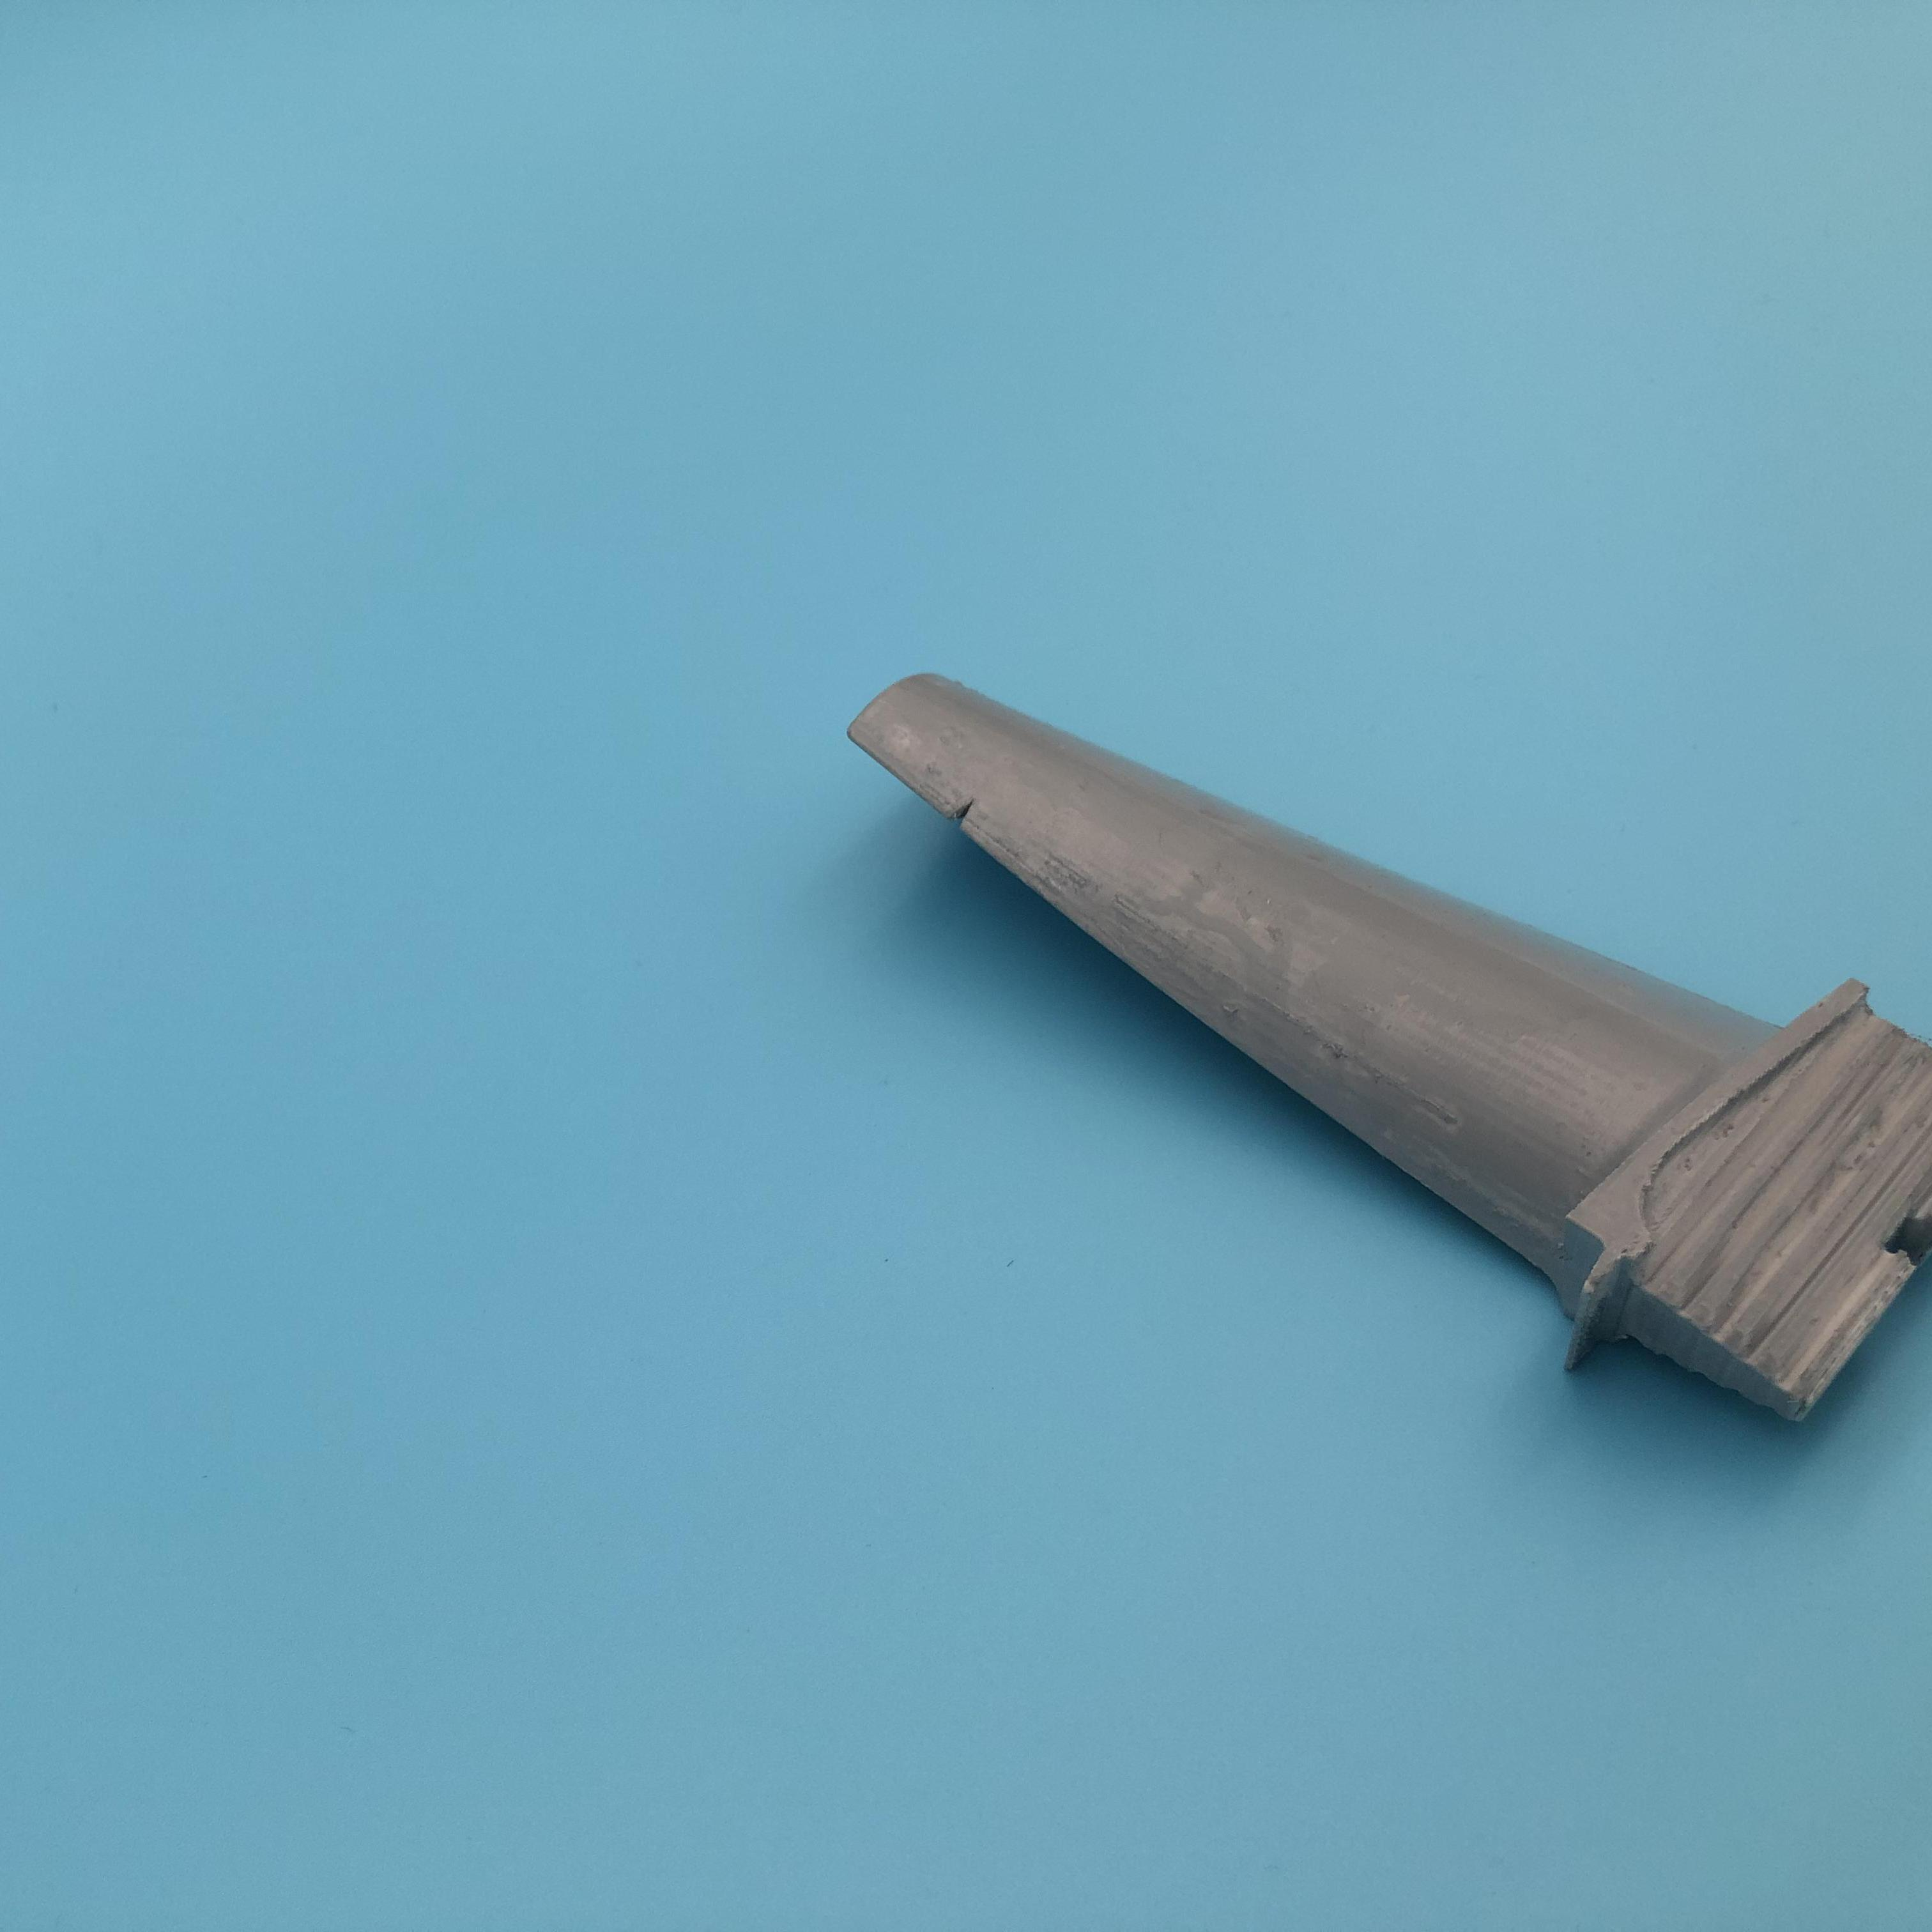groove: (938, 782, 985, 839)
